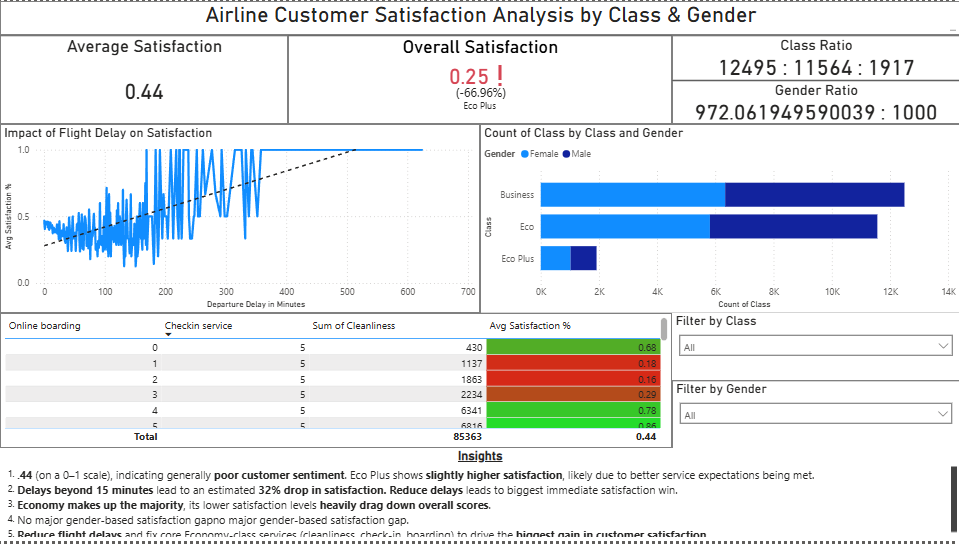

What the dashboard file says about the page in this screenshot:
{"tool":"powerbi","page":{"name":"Page 1","canvas":[1280,720],"ordinal":0},"visuals":[{"type":"kpi","title":"Overall Satisfaction","fields":{"Indicator":["test.Avg Satisfaction %"],"Goal":["test.Target_Satisfaction"],"TrendLine":["test.Class"]},"box":[384,46,512,118],"z":0},{"type":"barChart","fields":{"Y":["CountNonNull(test.Class)"],"Category":["test.Class"],"Series":["test.Gender"]},"box":[640.4,163.2,640.4,252.6],"z":1000},{"type":"lineChart","title":"Impact of Flight Delay on Satisfaction","fields":{"Category":["test.Departure Delay in Minutes"],"Y":["test.Avg Satisfaction %"]},"box":[0,164,640,252],"z":2000},{"type":"tableEx","fields":{"Values":["test.Online boarding","test.Checkin service","Sum(test.Cleanliness)","test.Avg Satisfaction %"]},"box":[0,416,896,180],"z":3000},{"type":"slicer","title":"Filter by Gender","fields":{"Values":["test.Gender"]},"box":[896.5,505.3,384.2,91.2],"z":4000},{"type":"textbox","title":"Insights","box":[0,596.5,1280.7,122.8],"z":4001},{"type":"textbox","title":"Airline Customer Satisfaction Analysis by Class & Gender","box":[0,0,1280.7,45.6],"z":4002},{"type":"card","title":"Average Satisfaction","fields":{"Values":["test.Avg Satisfaction %"]},"box":[0,46,384,118],"z":4003},{"type":"card","title":"Class Ratio","fields":{"Values":["test.Class_Ratio"]},"box":[896,46,384,60],"z":4004},{"type":"card","title":"Gender Ratio","fields":{"Values":["test.Male_Female_Ratio"]},"box":[896,106,384,58],"z":4005},{"type":"slicer","title":"Filter by Class","fields":{"Values":["test.Class"]},"box":[896.5,415.8,384.2,89.5],"z":4006}]}

Visuals, with their boxes in screenshot pixels (x1, y1, x2, y2), scaled from the page's 1280x720 canvas onto the 959x544 screenshot:
"Overall Satisfaction" kpi: bbox=[288, 35, 671, 124]
barChart - CountNonNull(test.Class) x test.Class: bbox=[480, 123, 958, 314]
"Impact of Flight Delay on Satisfaction" lineChart: bbox=[0, 124, 480, 314]
tableEx - test.Online boarding x test.Checkin service: bbox=[0, 314, 671, 450]
"Filter by Gender" slicer: bbox=[672, 382, 958, 451]
"Insights" textbox: bbox=[0, 451, 958, 543]
"Airline Customer Satisfaction Analysis by Class & Gender" textbox: bbox=[0, 0, 958, 34]
"Average Satisfaction" card: bbox=[0, 35, 288, 124]
"Class Ratio" card: bbox=[671, 35, 958, 80]
"Gender Ratio" card: bbox=[671, 80, 958, 124]
"Filter by Class" slicer: bbox=[672, 314, 958, 382]
